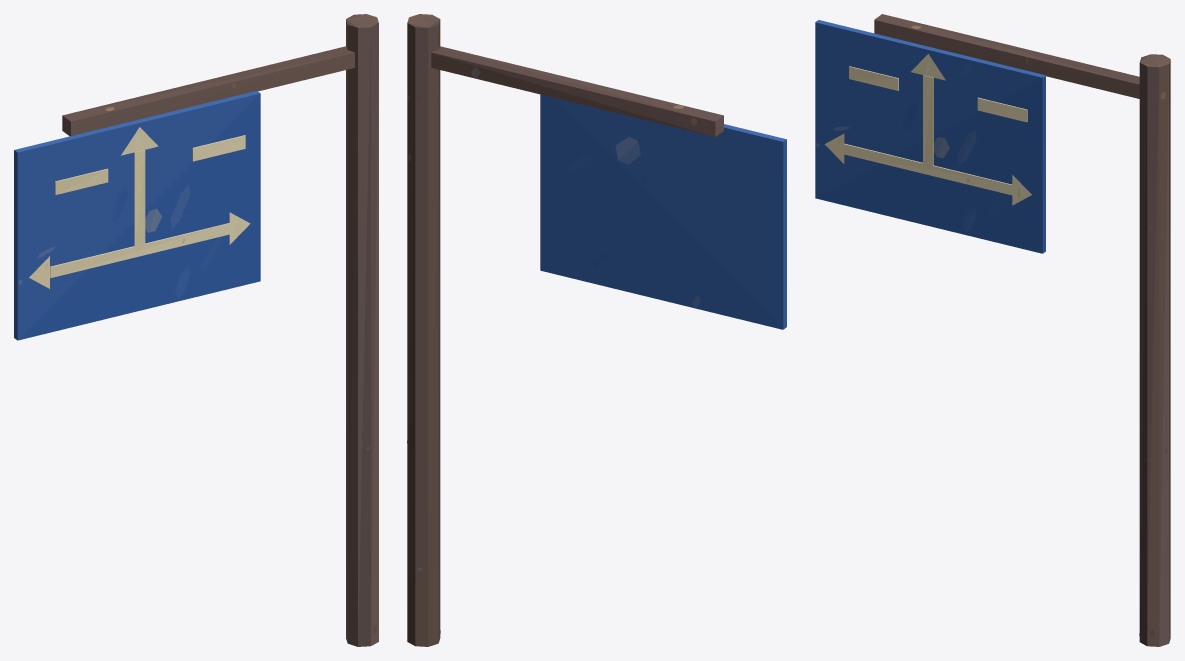
Rendered from HK_Sign_Guide.glb.
3 renders of one model, left to right at view 1: azimuth 30°, elevation 25°; view 2: azimuth 150°, elevation 25°; view 3: azimuth 330°, elevation 25°, orthographic. The views are drawn at different scales.
Parts seen in each view (by area): view 1: HK_Sign_Guide; view 2: HK_Sign_Guide; view 3: HK_Sign_Guide.
Part boxes in pixels (<box>): HK_Sign_Guide: <box>14,14,378,646</box>; HK_Sign_Guide: <box>407,14,786,646</box>; HK_Sign_Guide: <box>815,14,1170,646</box>.
Size of the model in its own units: 3.49 by 5.6 by 0.3105.
